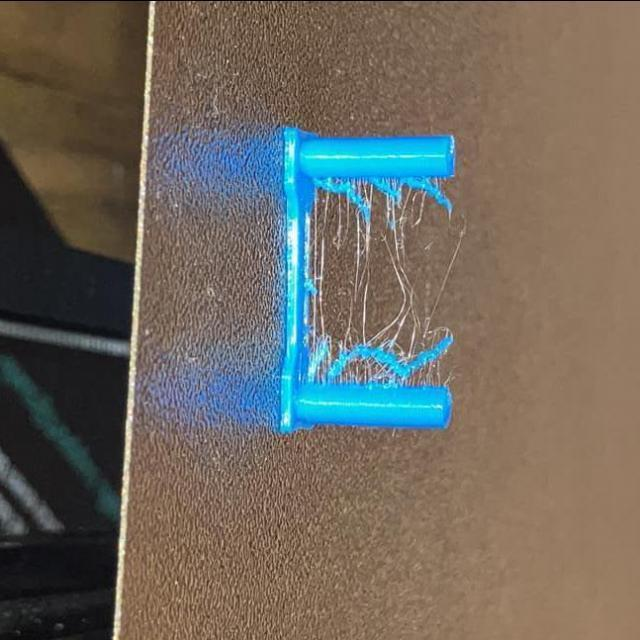stringing: (312, 313, 444, 387), (324, 178, 444, 235)
